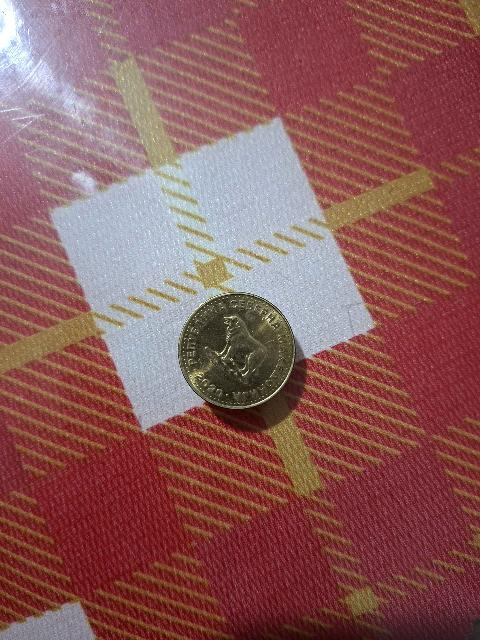coin: (179, 293, 295, 408)
